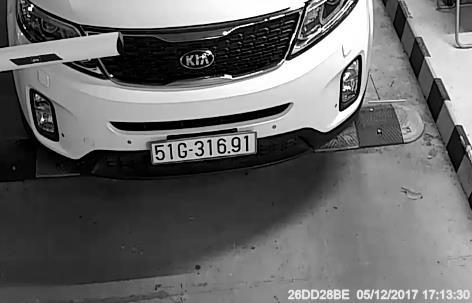License-plate: (143, 131, 262, 167)
